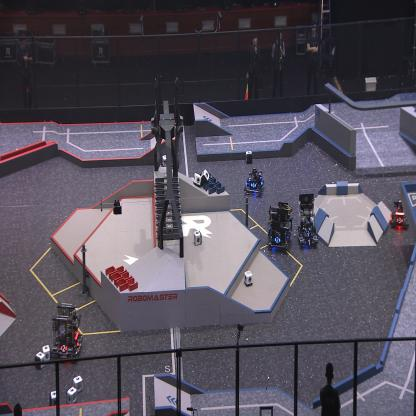car: (51, 303, 84, 361), (267, 200, 293, 253), (296, 192, 318, 250), (390, 198, 411, 228), (244, 167, 264, 198)
